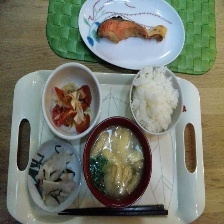rice: (128, 63, 183, 133)
